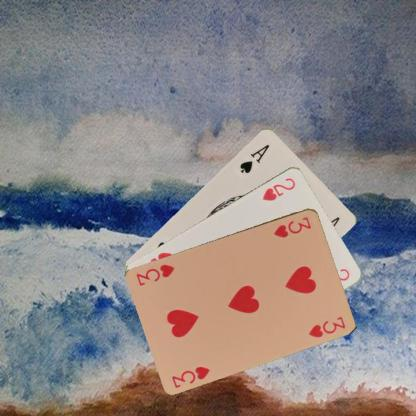2h: (259, 175, 297, 202)
3h: (170, 363, 212, 389), (271, 214, 313, 239)
As: (237, 141, 271, 174)
